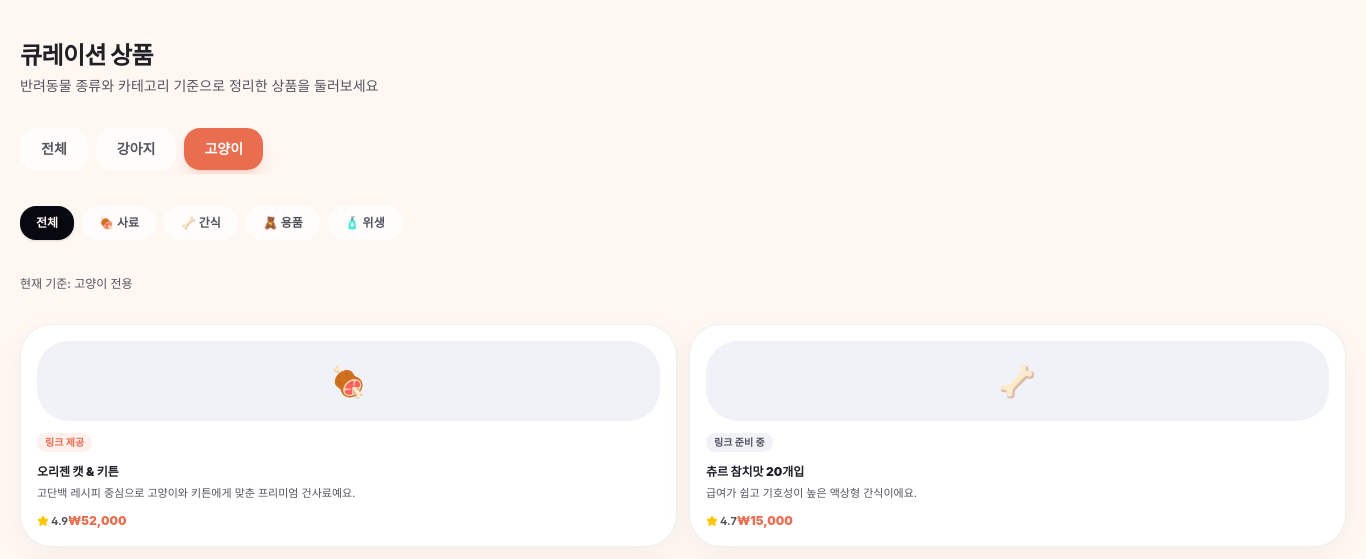
RecommendPage › 필터 결과 없을 때 안내 메시지가 표시된다
This screenshot has width=1366, height=559.
Click the button "강아지" at (136, 149), box [96,128,176,170]
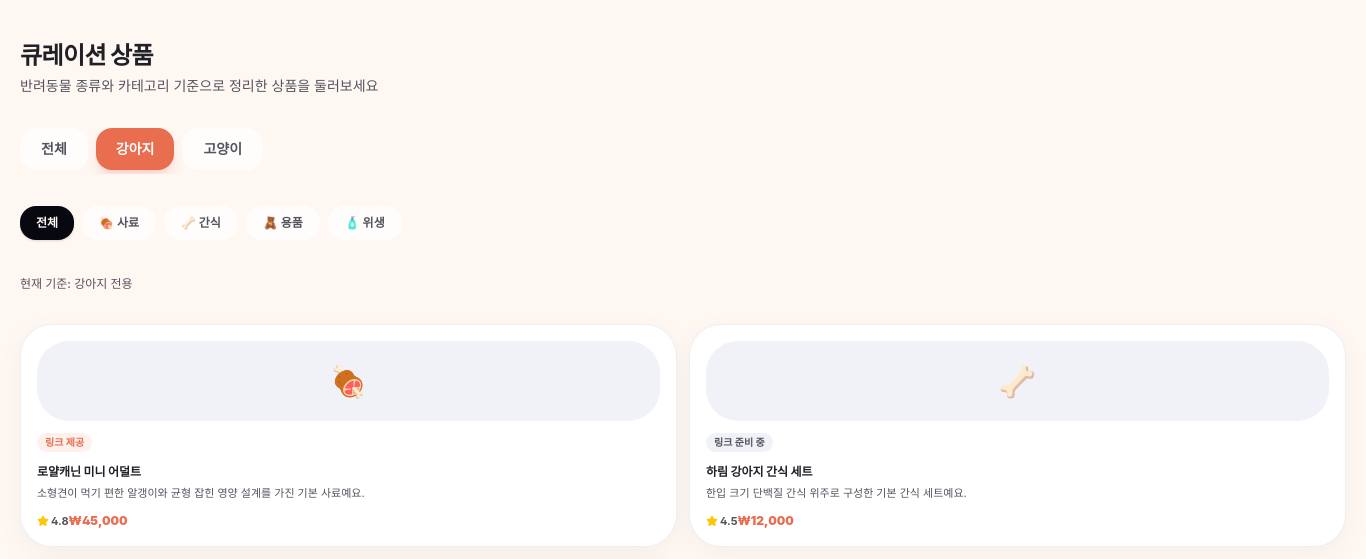
Click the button "🧴 위생" at (365, 223), box [328,206,402,240]
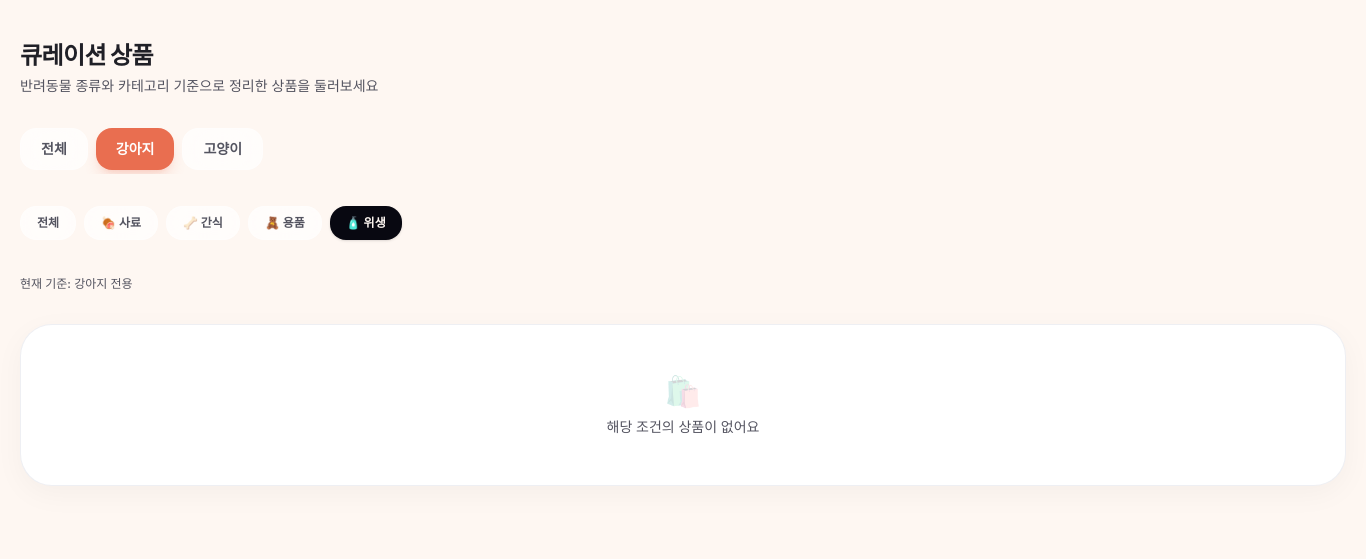
Expected: the text "해당 조건의 상품이 없어요" is shown, [606,417,759,437]
